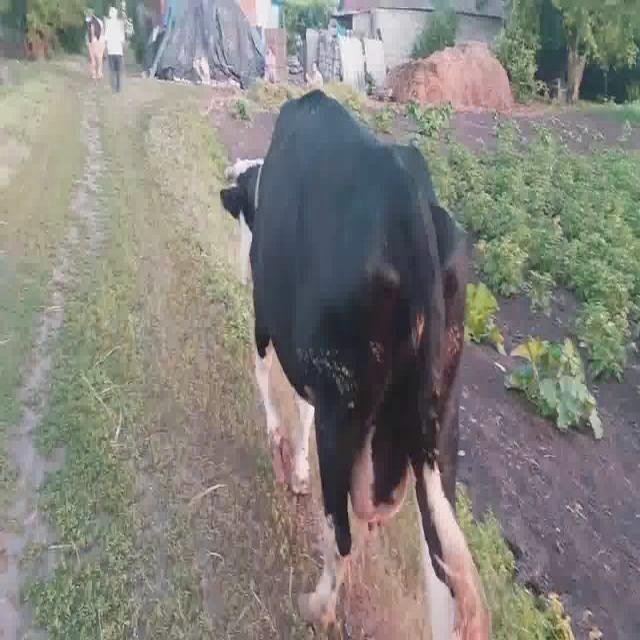cow: (221, 90, 490, 640), (310, 570, 331, 618)
